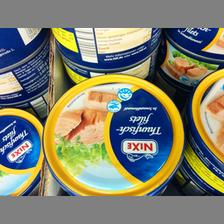Fisch: (41, 73, 184, 195), (183, 63, 223, 193), (0, 105, 44, 195)
